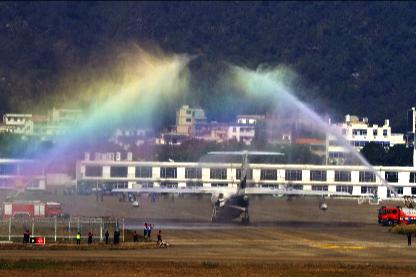AG600: (110, 149, 350, 222)
